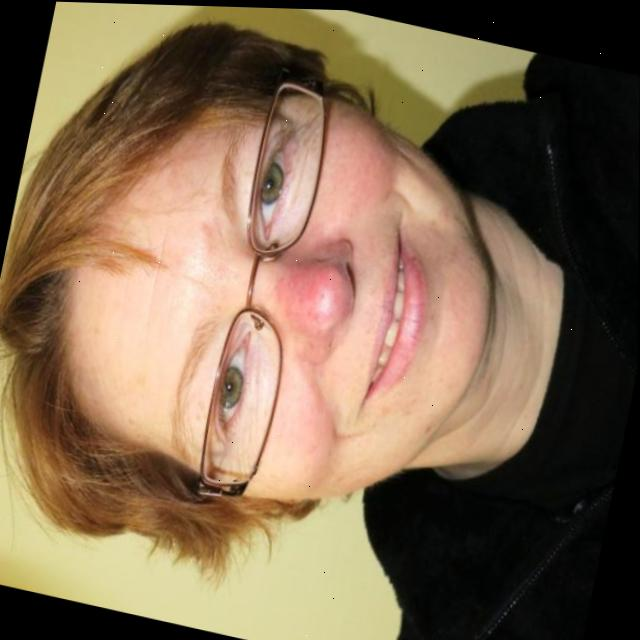Rosacea: (268, 250, 356, 361)
